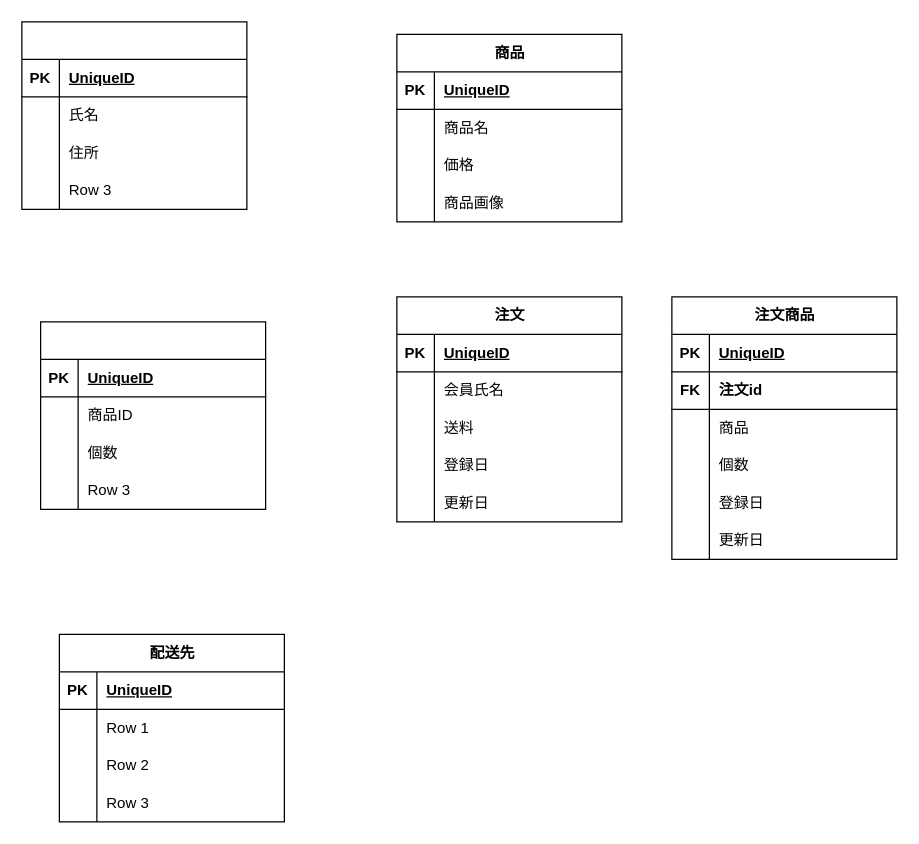
The diagram is 919 pixels wide and 844 high, and some of its shapes have lost their labels. The box of each missing label's shape, as (x1, y1, x2, y2) in pixels:
カート: (39, 321, 266, 509)
会員: (21, 21, 247, 209)
